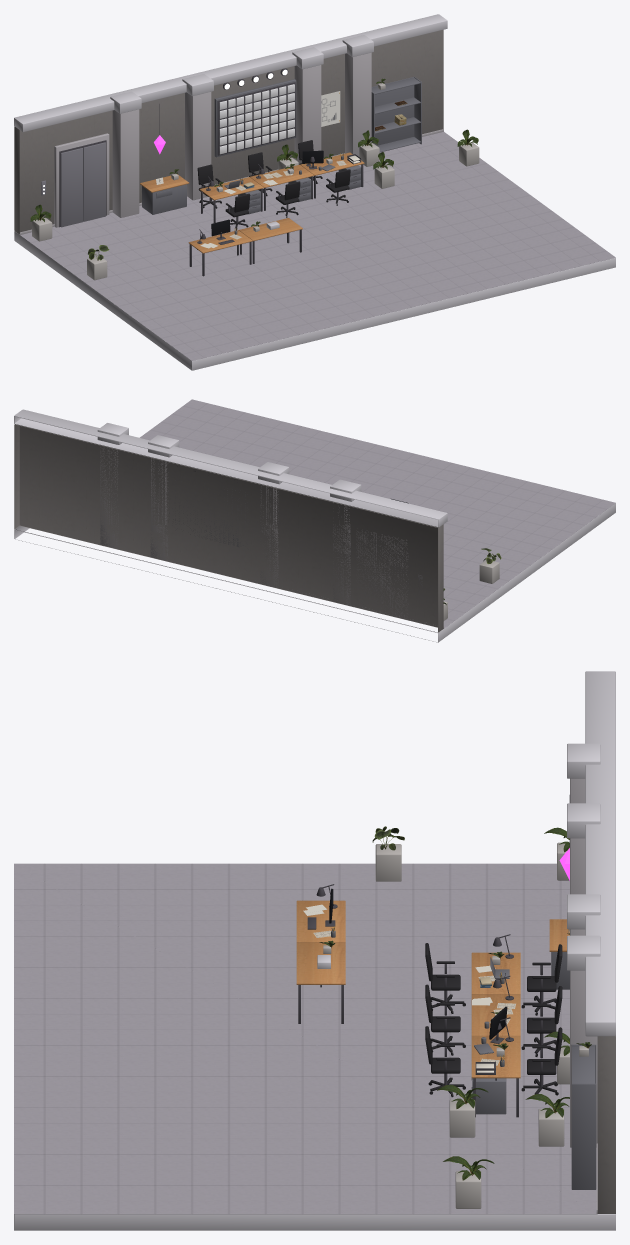
File: workbench.glb
3 views of the same model, one above another, from view 1: azimuth 30°, elevation 25°; view 2: azimuth 150°, elevation 25°; view 3: azimuth 270°, elevation 25° (orthographic). The views are drawn at different scales.
Parts seen in each view (by area): view 1: floor, wall_back, floor_slab, wall_cap, pilaster_0, pilaster_3, pilaster_1, pilaster_2, lift_door_0, lift_door_1, plan_back, shelf_back (+13 smaller); view 2: wall_back, floor, wall_cap, floor_slab, pilaster_2, pilaster_3, lift_surround, pilaster_1, pilaster_0, planter_4, pilaster_cap_0, pilaster_cap_1 (+2 smaller); view 3: floor, floor_slab, wall_cap, wall_back, shelf_side_1, corner_b_top, pilaster_3, corner_top, desk1_top, desk3_top, desk2_top, desk3_pedestal (+10 smaller).
Boxes of the visible parts, bbox=[...] form: floor: bbox=[20, 131, 615, 360]; wall_back: bbox=[14, 30, 443, 234]; floor_slab: bbox=[14, 231, 615, 370]; wall_cap: bbox=[14, 14, 447, 132]; pilaster_0: bbox=[112, 109, 139, 217]; pilaster_3: bbox=[345, 52, 371, 156]; pilaster_1: bbox=[185, 92, 211, 200]; pilaster_2: bbox=[294, 65, 321, 164]; lift_door_0: bbox=[60, 148, 83, 227]; lift_door_1: bbox=[83, 142, 105, 221]; plan_back: bbox=[217, 82, 295, 155]; shelf_back: bbox=[371, 77, 414, 145]; wall_back: bbox=[14, 424, 443, 632]; floor: bbox=[140, 399, 615, 628]; wall_cap: bbox=[14, 409, 447, 527]; floor_slab: bbox=[14, 503, 615, 642]; pilaster_2: bbox=[150, 458, 168, 560]; pilaster_3: bbox=[100, 447, 118, 548]; lift_surround: bbox=[356, 531, 408, 617]; pilaster_1: bbox=[260, 486, 278, 587]; pilaster_0: bbox=[333, 505, 350, 605]; planter_4: bbox=[479, 560, 499, 583]; pilaster_cap_0: bbox=[330, 479, 361, 501]; pilaster_cap_1: bbox=[258, 462, 289, 484]; floor: bbox=[14, 863, 596, 1214]; floor_slab: bbox=[14, 1214, 615, 1230]; wall_cap: bbox=[585, 671, 615, 1036]; wall_back: bbox=[597, 1035, 615, 1213]; shelf_side_1: bbox=[571, 1083, 596, 1189]; corner_b_top: bbox=[296, 942, 345, 984]; pilaster_3: bbox=[570, 970, 597, 1147]; corner_top: bbox=[296, 900, 345, 942]; desk1_top: bbox=[471, 952, 520, 994]; desk3_top: bbox=[471, 1035, 520, 1078]; desk2_top: bbox=[471, 994, 520, 1035]; desk3_pedestal: bbox=[472, 1078, 506, 1114].
Bounding box in the file's own units: 13.54 × 3.82 × 9.8.
Materials: 30 (10 with a texture image).
